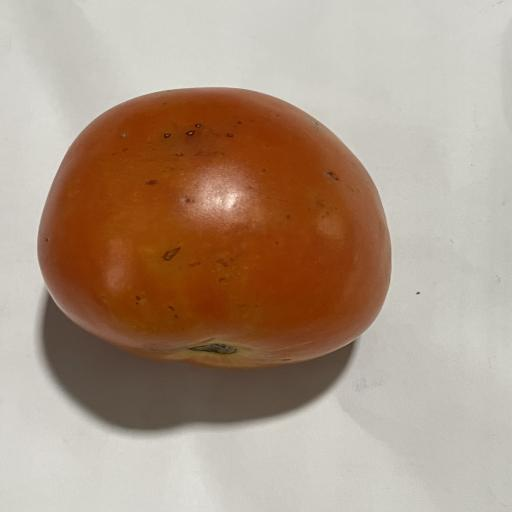unripe: (38, 88, 391, 368)
